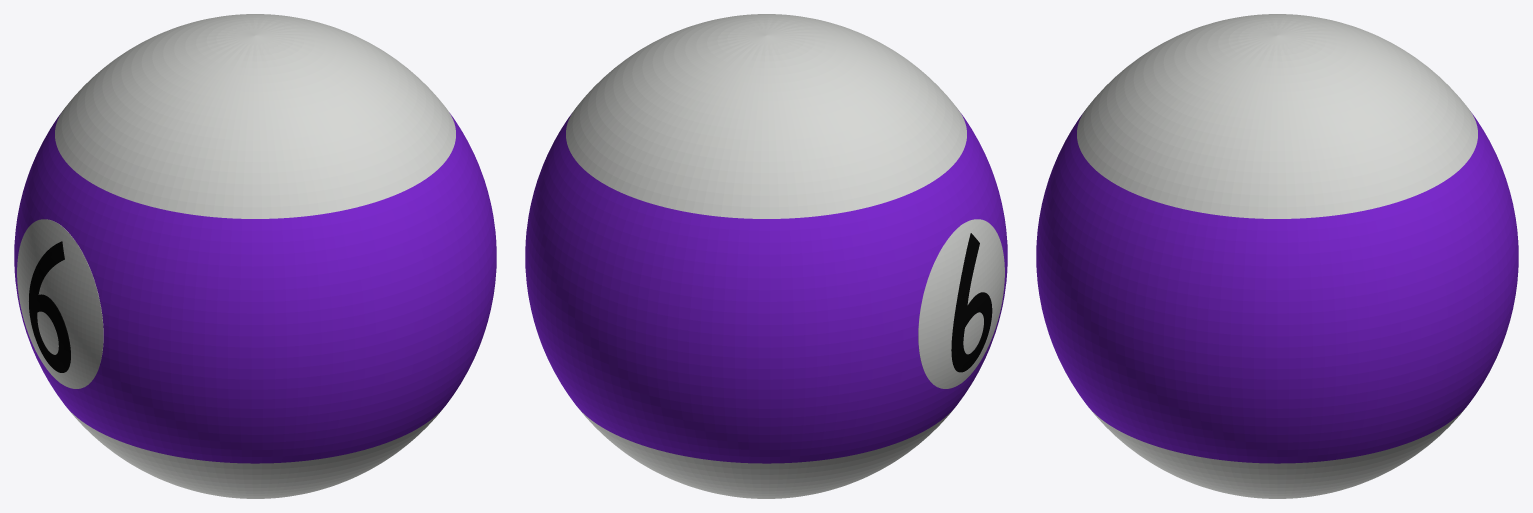
The model's file is Ball#9.fbx.
The picture shows the model from 3 angles, left to right: view 1: azimuth 30°, elevation 25°; view 2: azimuth 150°, elevation 25°; view 3: azimuth 270°, elevation 25°; orthographic projection.
Visible parts, largest first — view 1: Sphere, Sphere.001, Text; view 2: Sphere, Sphere.001, Text; view 3: Sphere.
Boxes of the visible parts, left/top/right/bottom form: Sphere: left=14, top=14, right=496, bottom=498; Sphere.001: left=17, top=219, right=103, bottom=388; Text: left=29, top=241, right=70, bottom=372; Sphere: left=525, top=14, right=1007, bottom=498; Sphere.001: left=918, top=219, right=1004, bottom=388; Text: left=951, top=233, right=992, bottom=372; Sphere: left=1036, top=14, right=1518, bottom=498.
Bounding box in the file's own units: 198 × 200 × 198.
